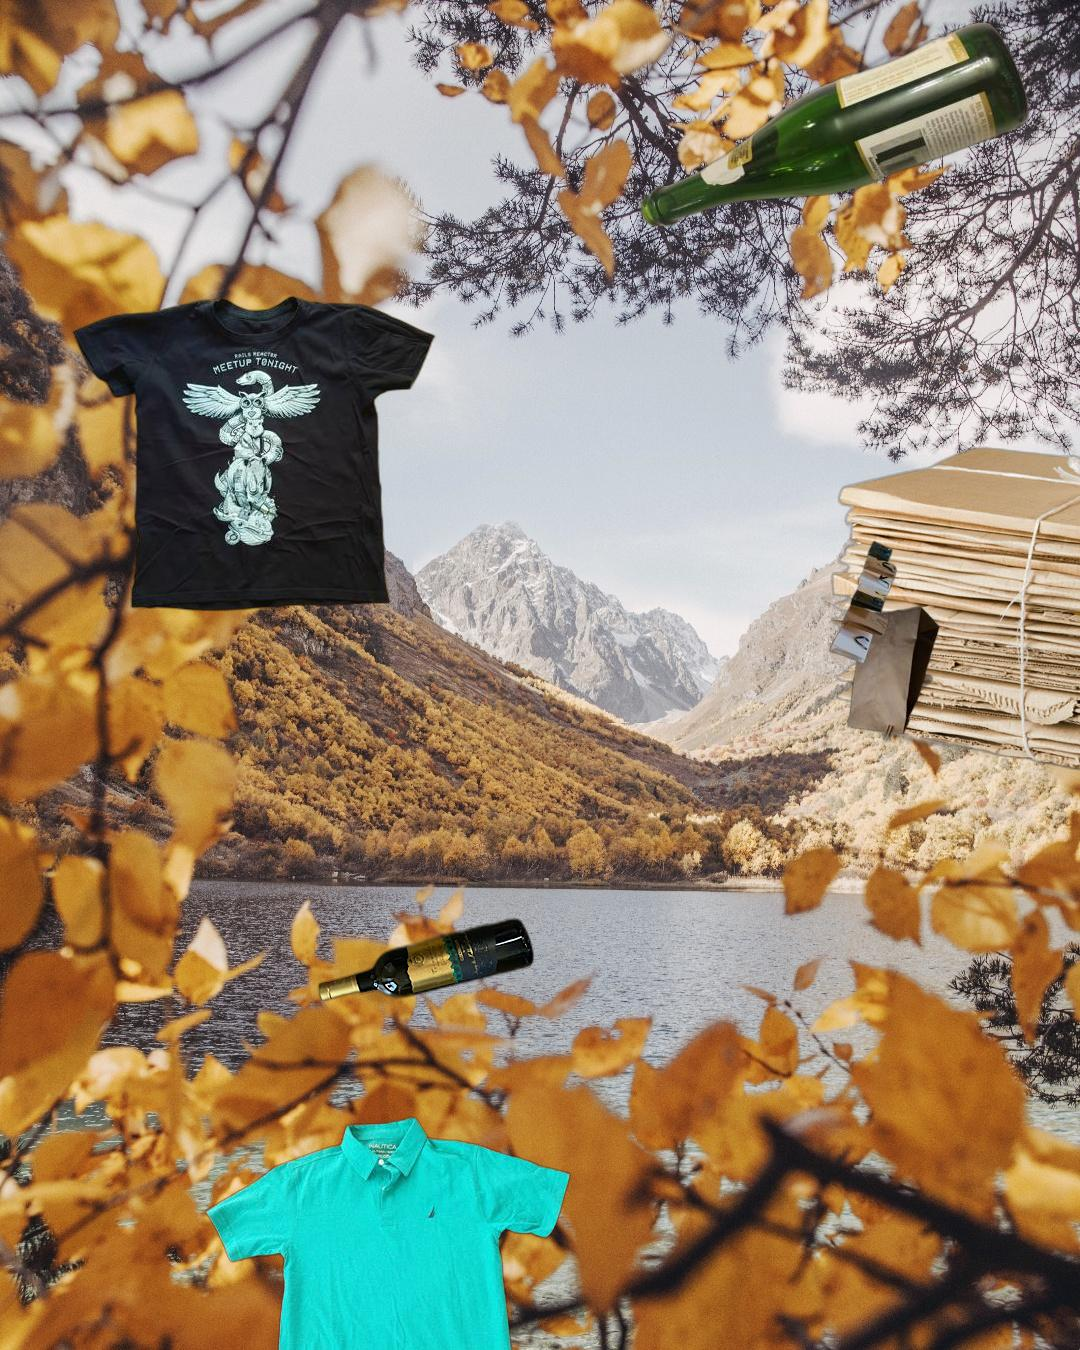clothes: (68, 293, 440, 615), (192, 1057, 574, 1350)
glass: (636, 19, 1034, 228), (314, 912, 537, 1007)
paper: (944, 1210, 1080, 1350)
paper-bag: (827, 540, 941, 744)
trashbox-cardboard: (825, 443, 1080, 796), (364, 1281, 876, 1350)
